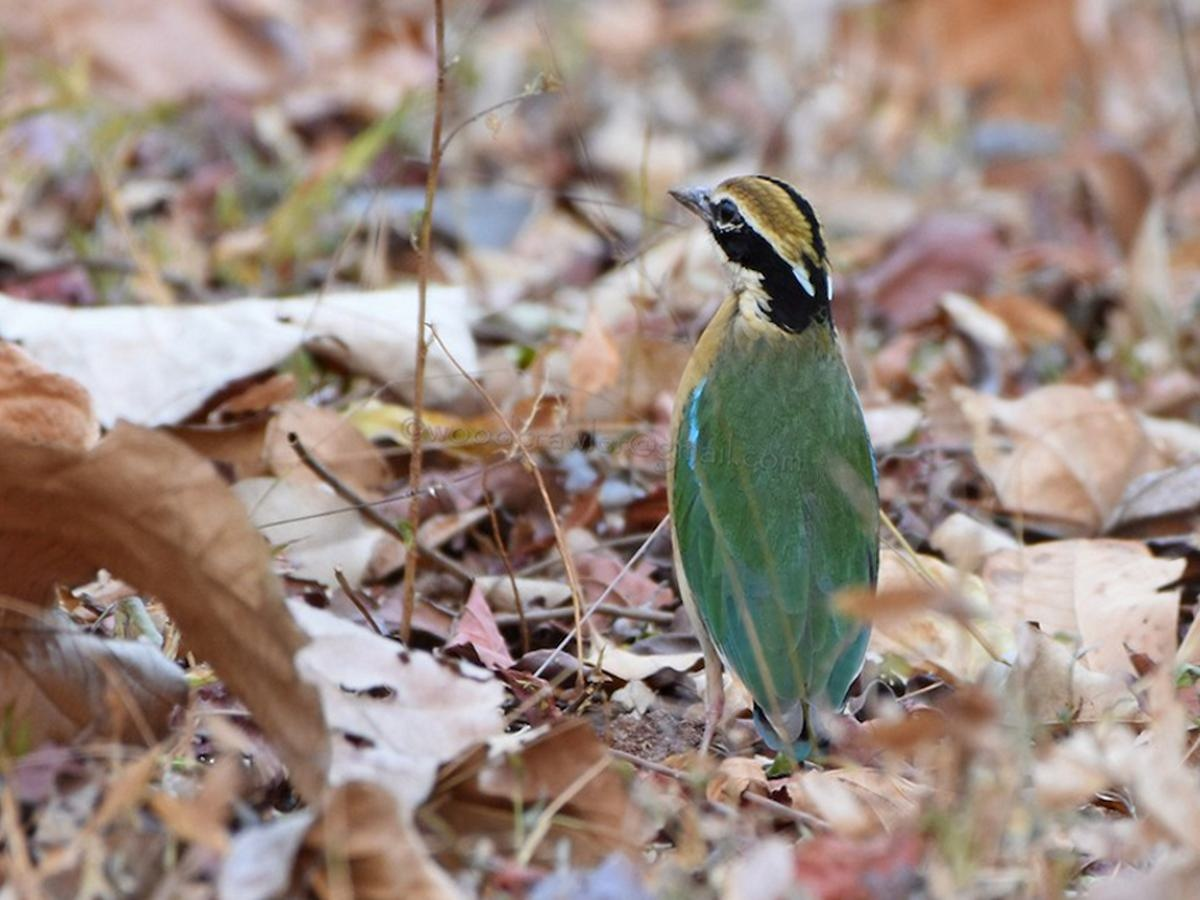pitta: (645, 160, 896, 770)
